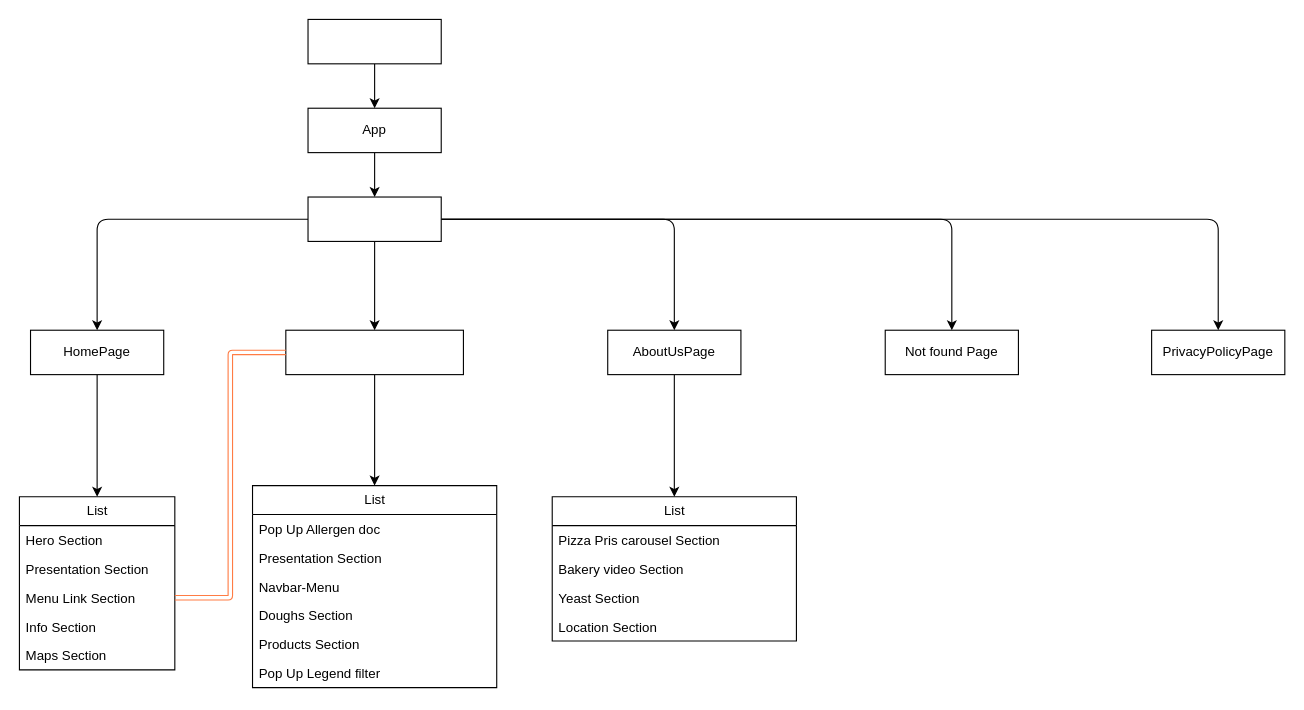
Some shapes in this 1304 by 710 pixel diagram are drawn without their labels. The centre of each missing label's shape, as x and y in pixels:
"it / en" belongs at point (374, 218).
"MenuPage" belongs at point (374, 352).
"Sicilia e Sapori" belongs at point (374, 41).
